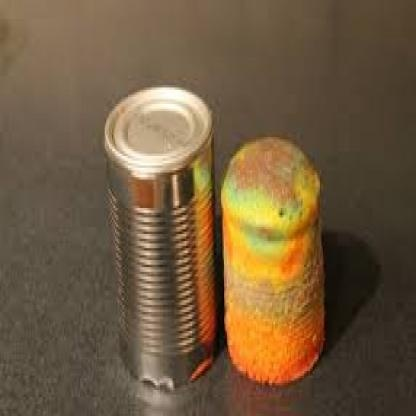trash: (105, 87, 215, 388), (221, 137, 323, 383)
